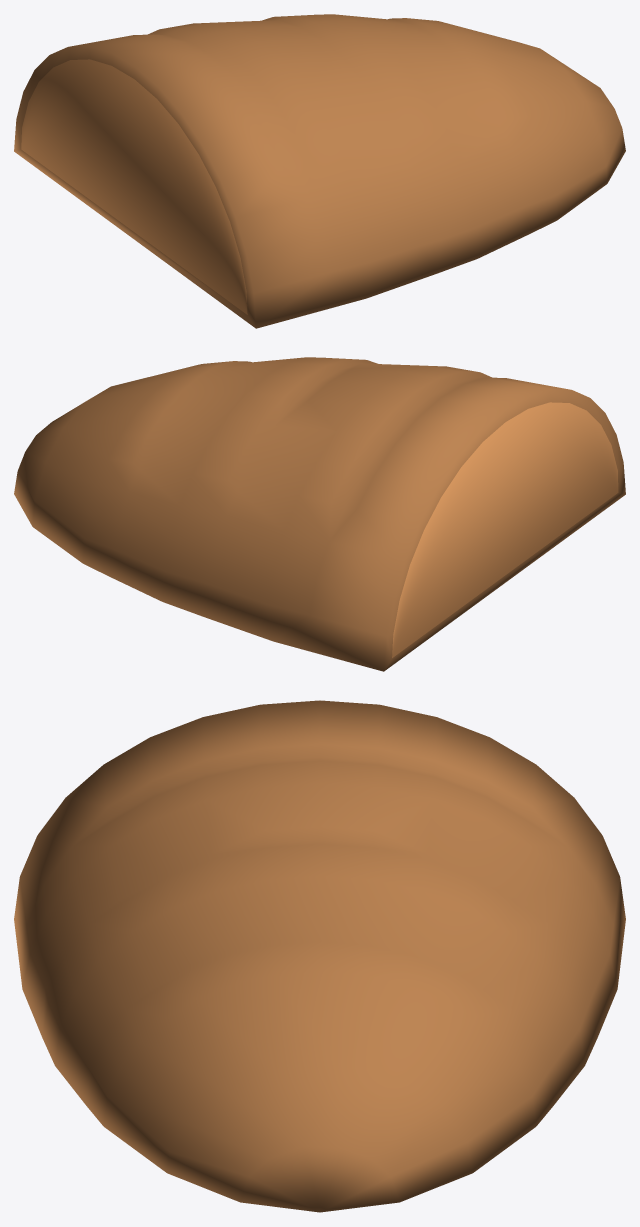
Rendered from HalfBread1.fbx.
3 renders of one model, top to bottom at view 1: azimuth 30°, elevation 25°; view 2: azimuth 150°, elevation 25°; view 3: azimuth 270°, elevation 25°, orthographic. The views are drawn at different scales.
Parts seen in each view (by area): view 1: Sphere.019; view 2: Sphere.019; view 3: Sphere.019.
Part boxes in pixels (bbox=[...]): Sphere.019: bbox=[14, 14, 625, 328]; Sphere.019: bbox=[14, 357, 625, 671]; Sphere.019: bbox=[14, 700, 625, 1212].
Size of the model in its own units: 68.9 by 23.94 by 60.69.
